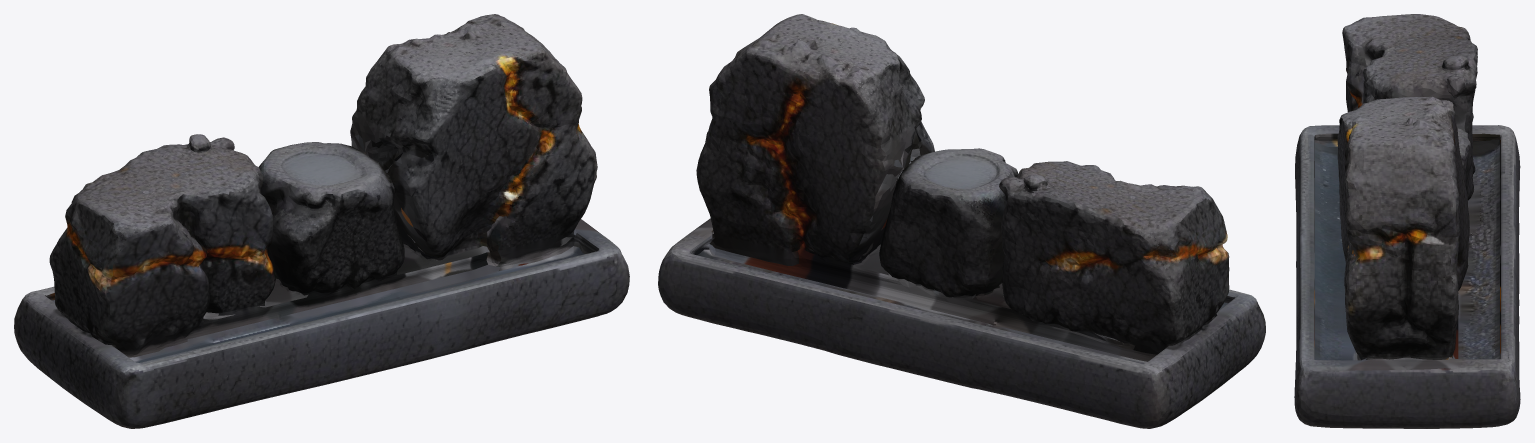
The model's file is traveler_env_coast_hida_catacomb_basalt_drains_00001_.glb.
The picture shows the model from 3 angles, left to right: view 1: azimuth 30°, elevation 25°; view 2: azimuth 150°, elevation 25°; view 3: azimuth 270°, elevation 25°; orthographic projection.
Visible parts, largest first — view 1: temp_mesh.ply; view 2: temp_mesh.ply; view 3: temp_mesh.ply.
Part boxes in pixels (left/top/right/bottom): temp_mesh.ply: left=14, top=14, right=629, bottom=428; temp_mesh.ply: left=658, top=14, right=1265, bottom=428; temp_mesh.ply: left=1294, top=14, right=1520, bottom=428.
Size of the model in its own units: 1.97 by 0.9883 by 0.7499.
Materials: 1 (1 with a texture image).
